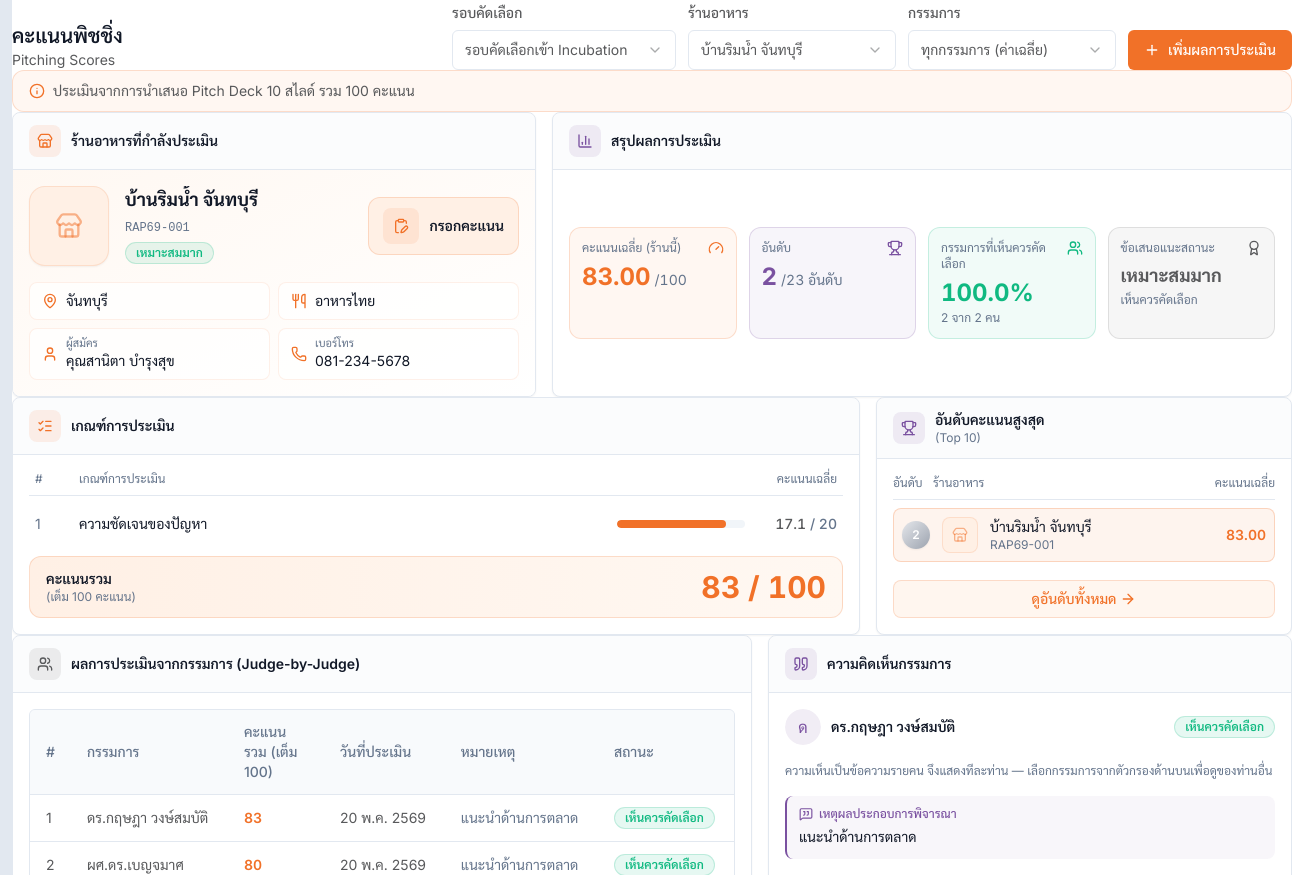
PitchingDashboard › resets the store and judge picks when the round changes
Expected: the text "17.1" is shown, [775,515,806,532]
Click the dropdown labelled "กรรมการ": point(1012, 50) [908,30,1116,70]
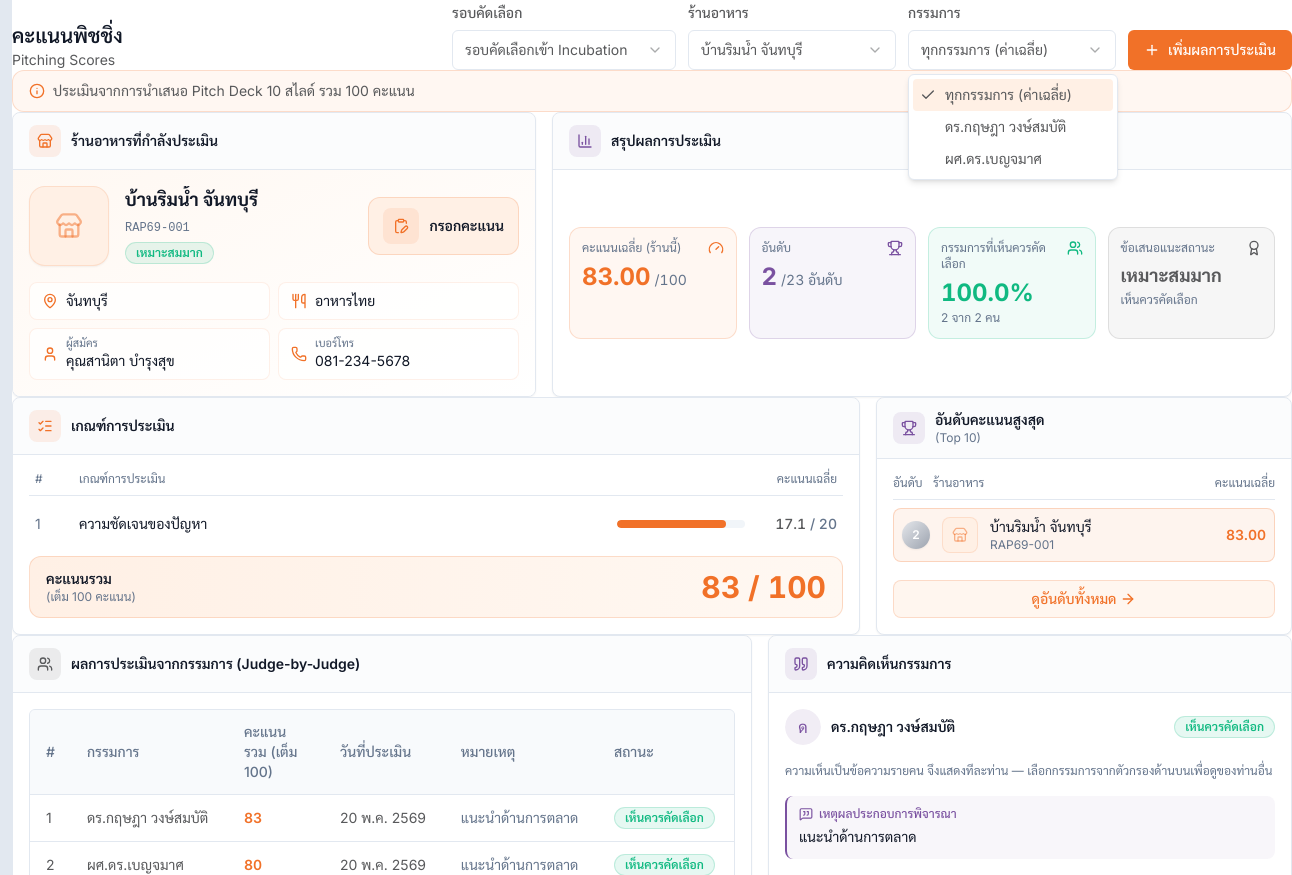
Click the option "ดร.กฤษฎา วงษ์สมบัติ": point(1006, 126) [945,118,1066,135]
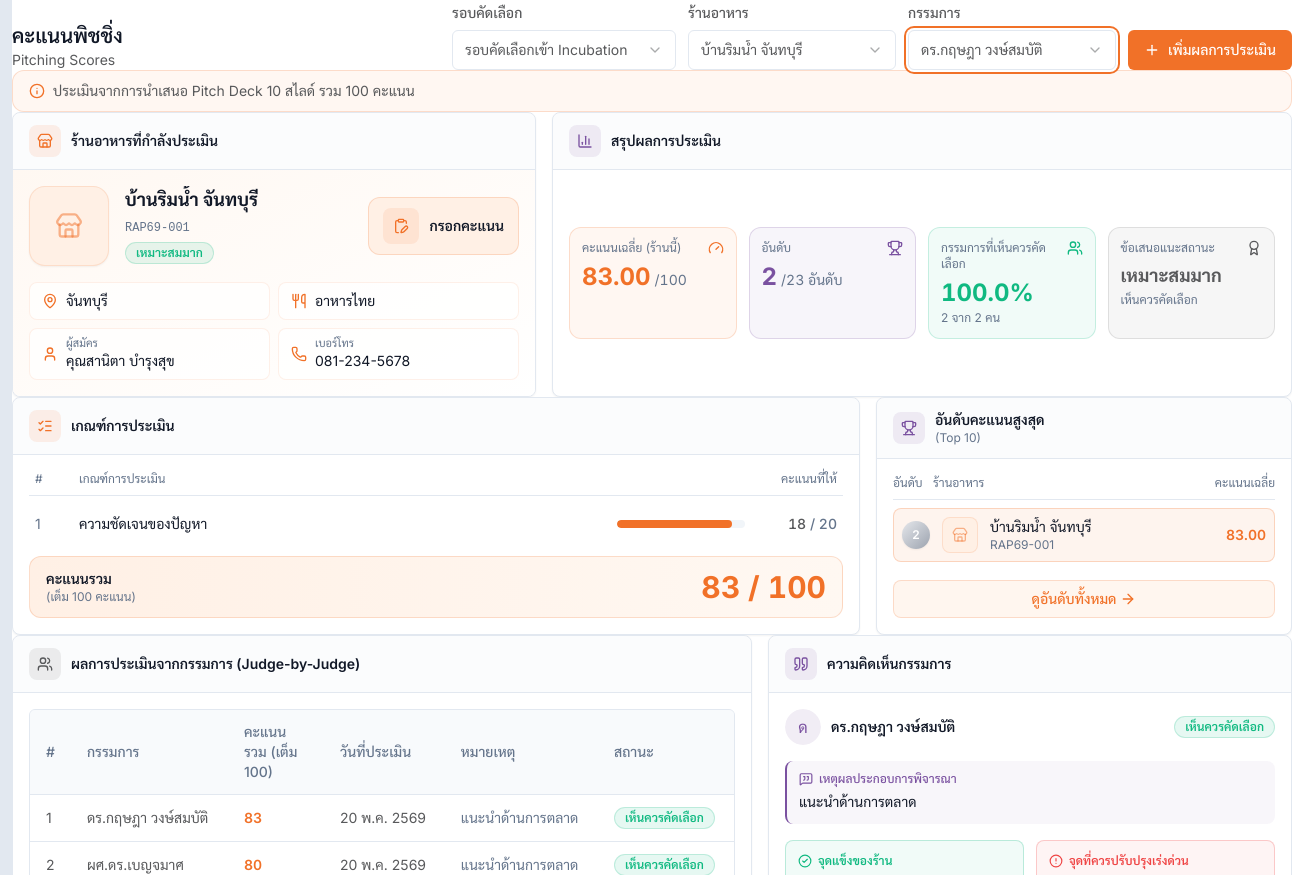
Now the text "18" is shown, box [788,515,806,532]
Click the dropdown labelled "รอบคัดเลือก": point(564, 50) [452,30,676,70]
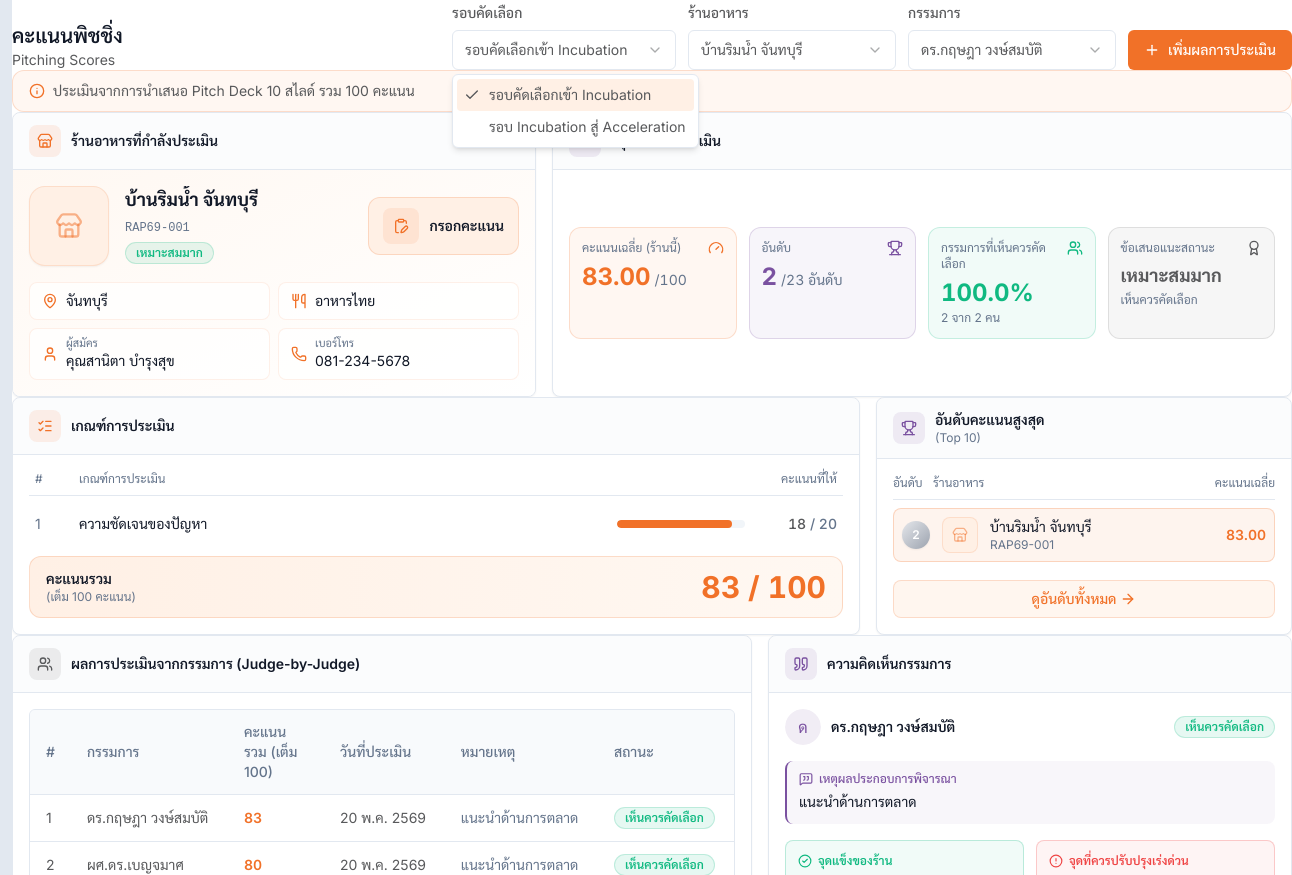
Click the option "รอบ Incubation สู่ Acceleration": point(587, 126) [489,118,686,135]
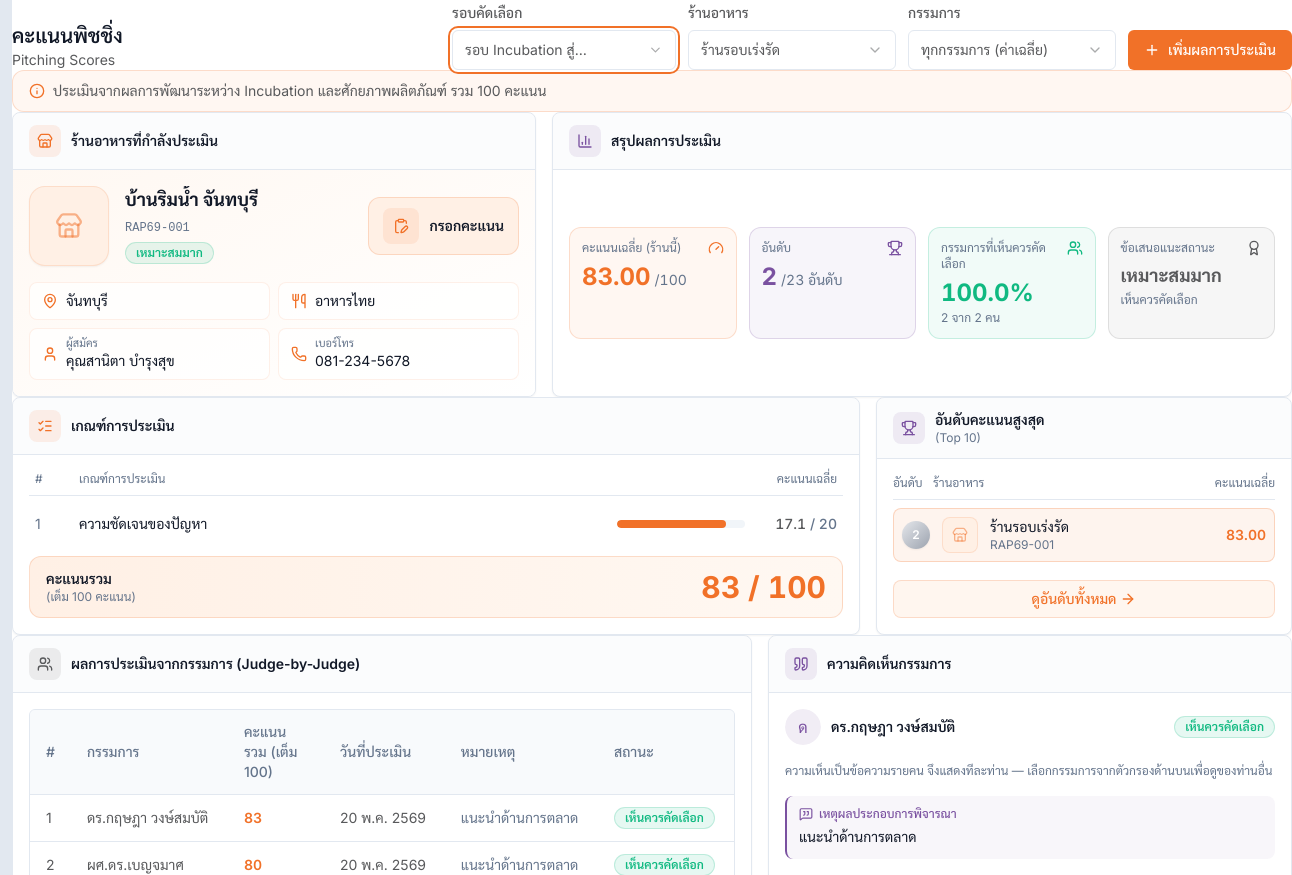
Now the dropdown named "ร้านอาหาร" reads "ร้านรอบเร่งรัด", box [688,30,896,70]
Now the dropdown labelled "กรรมการ" reads "ทุกกรรมการ (ค่าเฉลี่ย)", box [908,30,1116,70]
